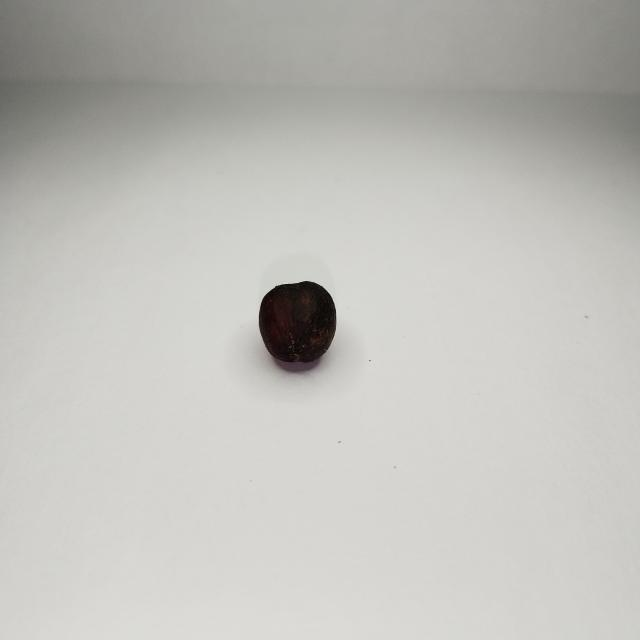Danado: (259, 282, 336, 361)
